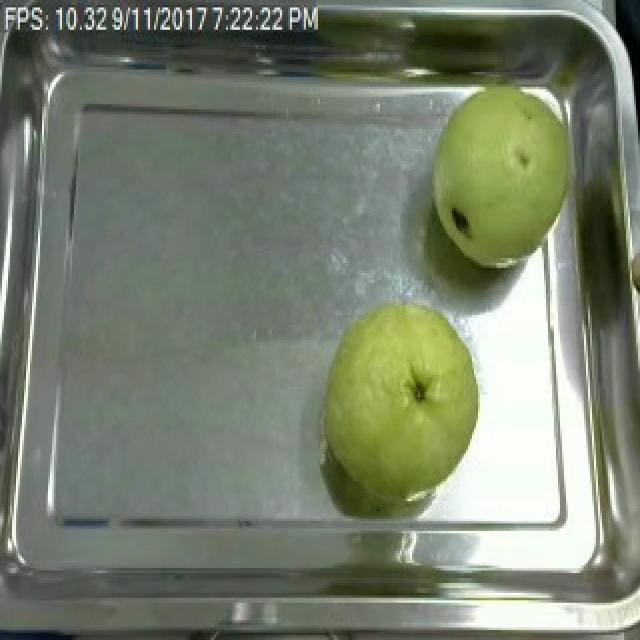Fruit: (314, 293, 488, 501), (420, 77, 590, 278)
